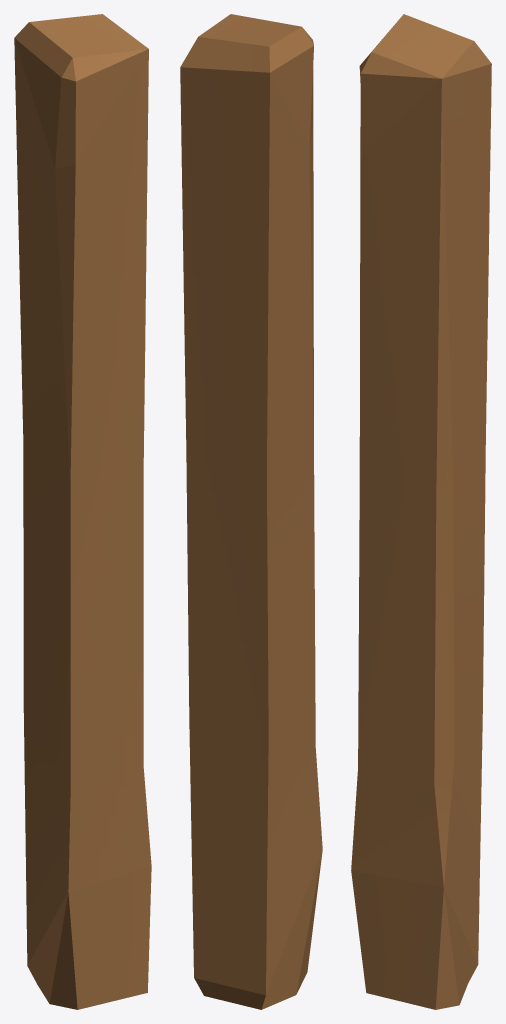
File: Fence_WoodA_H.fbx
3 renders of one model, left to right at view 1: azimuth 30°, elevation 25°; view 2: azimuth 150°, elevation 25°; view 3: azimuth 330°, elevation 25°, orthographic.
Parts seen in each view (by area): view 1: Fence_WoodA_H; view 2: Fence_WoodA_H; view 3: Fence_WoodA_H.
Part boxes in pixels (x1,y1,x2,y2): Fence_WoodA_H: (14,14,151,1009); Fence_WoodA_H: (180,14,322,1009); Fence_WoodA_H: (351,14,491,1009).
Bounding box in the file's own units: 15.02 × 154 × 15.41.
